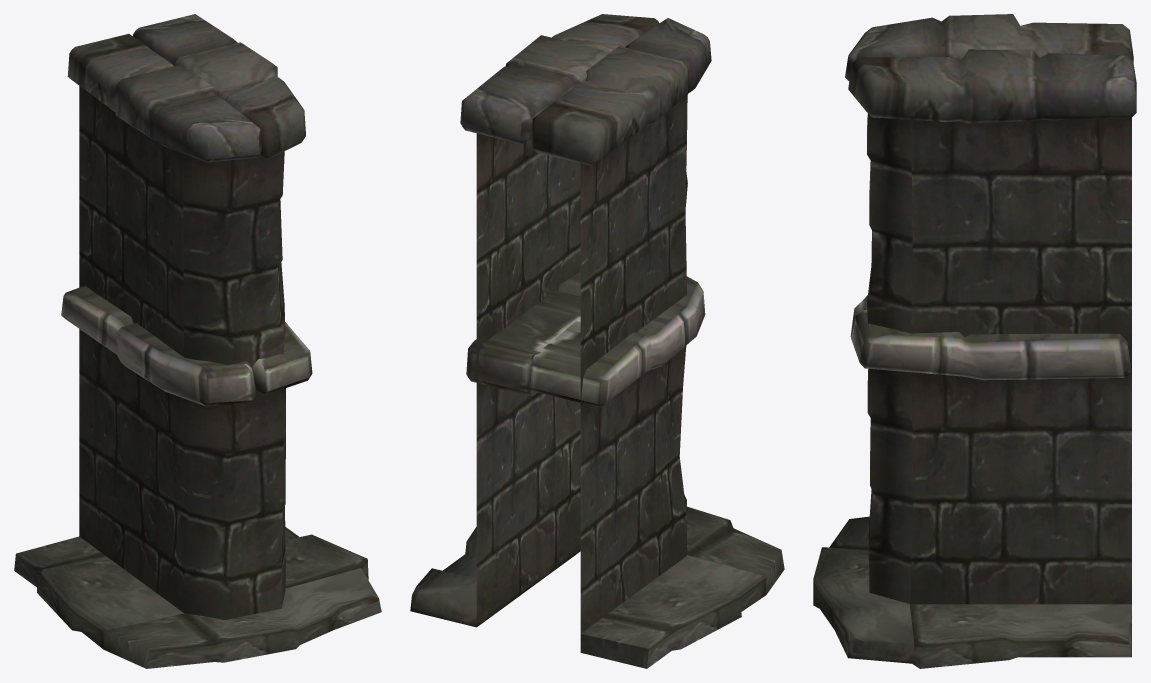
File: h5_building_13.FBX
3 views of the same model, side by side, from view 1: azimuth 30°, elevation 25°; view 2: azimuth 150°, elevation 25°; view 3: azimuth 270°, elevation 25° (orthographic). The views are drawn at different scales.
Visible parts, largest first — view 1: h5_building_13; view 2: h5_building_13; view 3: h5_building_13.
Boxes of the visible parts, x1,y1,x2,y2 form: h5_building_13: (14,14,381,668); h5_building_13: (410,14,784,668); h5_building_13: (813,14,1136,668).
Size of the model in its own units: 3.53 by 6.46 by 3.44.
1 material, 1 textured.
